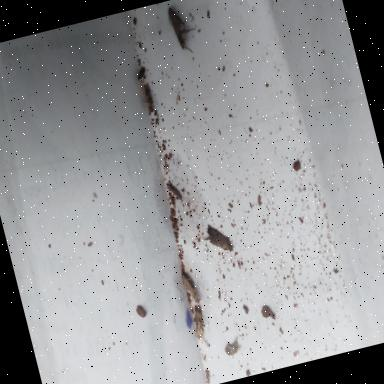pbw: (166, 2, 201, 57), (200, 220, 235, 258), (188, 305, 210, 351), (180, 269, 202, 307), (136, 77, 154, 114)
